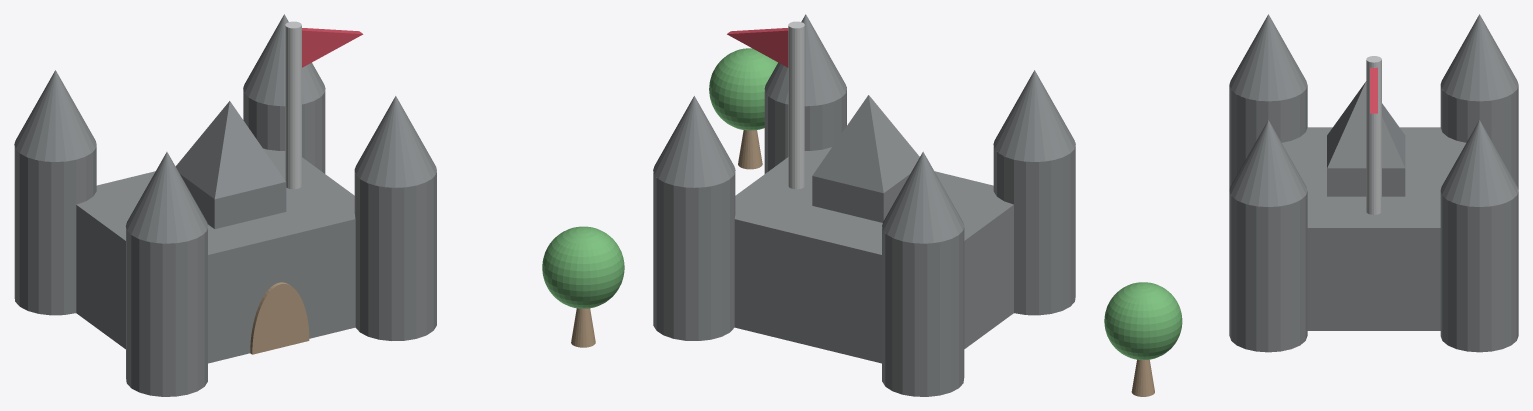
Rendered from asset.glb.
The picture shows the model from 3 angles, left to right: view 1: azimuth 30°, elevation 25°; view 2: azimuth 150°, elevation 25°; view 3: azimuth 270°, elevation 25°; orthographic projection. The views are drawn at different scales.
Parts seen in each view (by area): view 1: Mesh_Mesh_head_geo.001_lambert2SG.001; view 2: Mesh_Mesh_head_geo.001_lambert2SG.001; view 3: Mesh_Mesh_head_geo.001_lambert2SG.001.
Boxes of the visible parts, x1=… form: Mesh_Mesh_head_geo.001_lambert2SG.001: x1=14, y1=14, x2=624, y2=396; Mesh_Mesh_head_geo.001_lambert2SG.001: x1=653, y1=14, x2=1075, y2=396; Mesh_Mesh_head_geo.001_lambert2SG.001: x1=1104, y1=14, x2=1518, y2=396.
Bounding box in the file's own units: 118 × 72 × 106.
